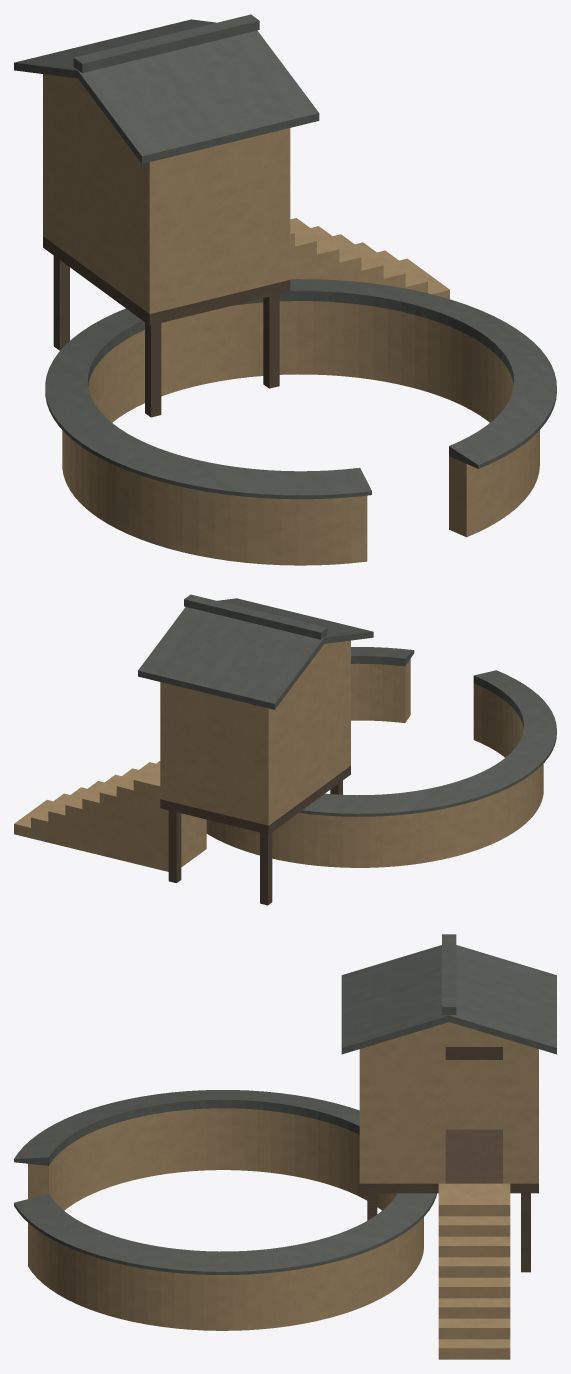
File: service-A-LOD1.glb
3 renders of one model, top to bottom at view 1: azimuth 30°, elevation 25°; view 2: azimuth 150°, elevation 25°; view 3: azimuth 270°, elevation 25°, orthographic. The views are drawn at different scales.
Parts seen in each view (by area): view 1: service-A-static_earth, service-A-static_tile, service-A-static_timber; view 2: service-A-static_earth, service-A-static_tile, service-A-static_timber; view 3: service-A-static_earth, service-A-static_tile, service-A-static_timber.
Part boxes in pixels (x1,y1,x2,y2): service-A-static_earth: (43,74,539,565); service-A-static_tile: (14,14,556,499); service-A-static_timber: (43,236,290,417); service-A-static_earth: (14,640,543,871); service-A-static_tile: (138,594,556,816); service-A-static_timber: (160,766,350,905); service-A-static_earth: (28,1022,538,1359); service-A-static_tile: (14,934,556,1274); service-A-static_timber: (359,1047,538,1272).
Size of the model in its own units: 6.75 by 4.23 by 7.56.
Materials: 3 (3 with a texture image).
